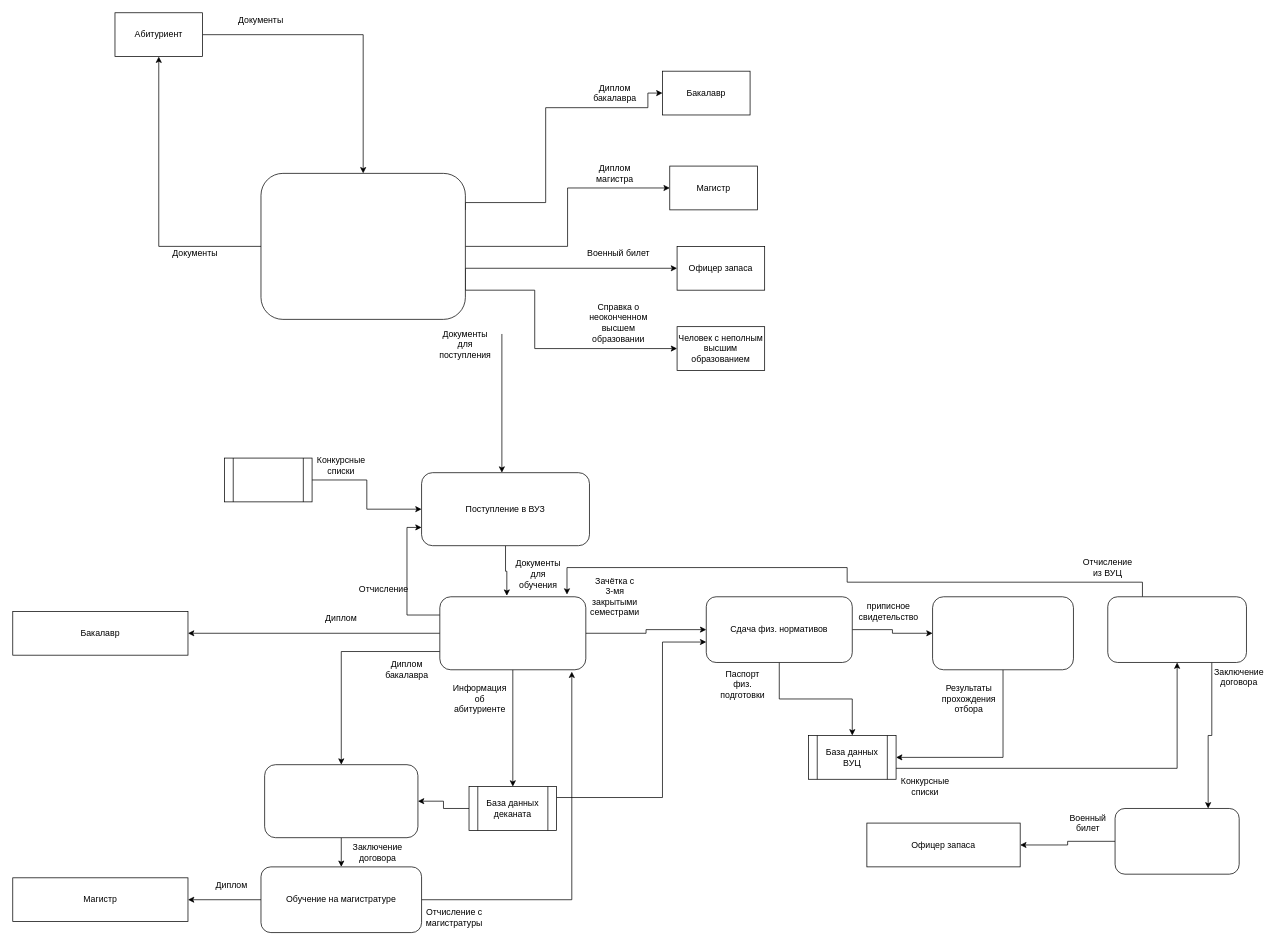
Some shapes in this 1277 by 945 pixel diagram are drawn without their labels. The shapes that lost their labels are listed below. From the top down, each one's centre as x and y in pixels, then its label:
(362,246): Обучение в ВУЗе
(268,479): База данных абитуриентов
(512,633): Обучение по программе бакалавриата
(1002,633): Прохождение псих.-проф. отбора
(1176,629): Поступление в ВУЦ
(341,801): Поступление на магистратуру
(1176,841): Обучение в ВУЦ
